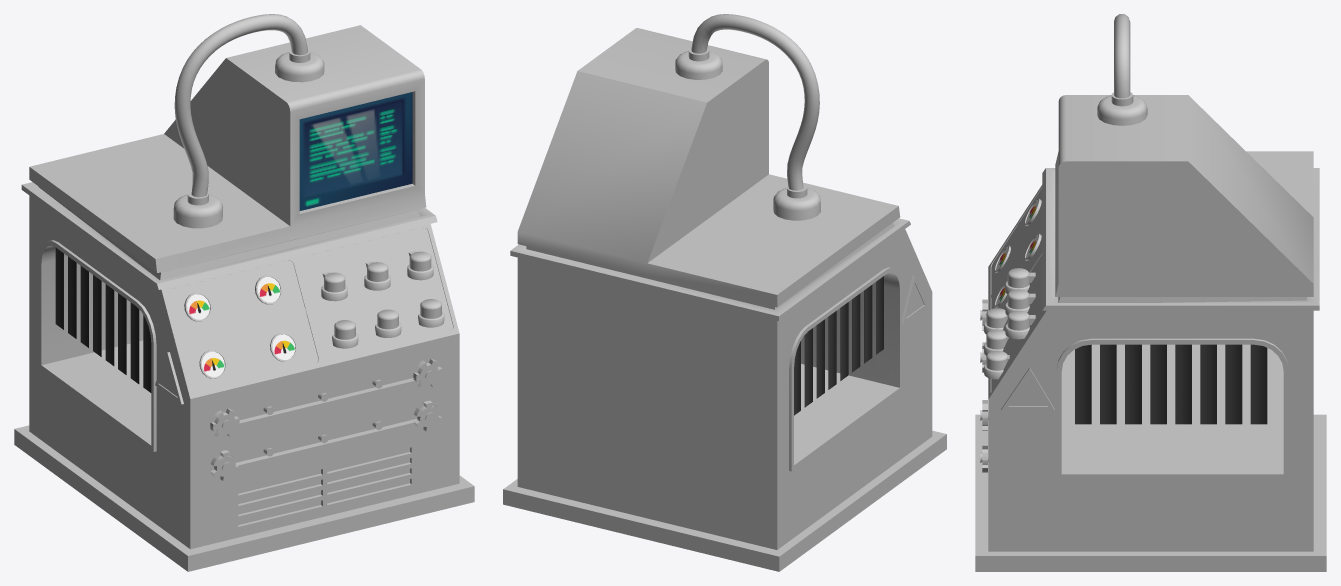
The model's file is Machine_v4_2.fbx.
3 renders of one model, left to right at view 1: azimuth 30°, elevation 25°; view 2: azimuth 150°, elevation 25°; view 3: azimuth 270°, elevation 25°, orthographic. The views are drawn at different scales.
Parts seen in each view (by area): view 1: Machn_v4_2, Plane_v4_2, Machn_v4_2_Button.002, Machn_v4_2_Button.001, Machn_v4_2_Button, Machn_v4_2_Button.004, Machn_v4_2_Button.003, Machn_v4_2_Button.005, Machn_v4_2_Gear_1, Machn_v4_2_Gear_2, Machn_v4_2_Gear_1.001, Machn_v4_2_Gear_2.001; view 2: Machn_v4_2, Plane_v4_2; view 3: Machn_v4_2, Plane_v4_2_2, Machn_v4_2_Button.002, Machn_v4_2_Button, Machn_v4_2_Button.001, Machn_v4_2_Button.005, Machn_v4_2_Button.004, Machn_v4_2_Button.003.
Boxes of the visible parts, left/top/right/bottom form: Machn_v4_2: left=14, top=14, right=474, bottom=571; Plane_v4_2: left=55, top=248, right=151, bottom=392; Machn_v4_2_Button.002: left=407, top=250, right=433, bottom=280; Machn_v4_2_Button.001: left=364, top=261, right=390, bottom=290; Machn_v4_2_Button: left=321, top=271, right=347, bottom=301; Machn_v4_2_Button.004: left=375, top=309, right=401, bottom=337; Machn_v4_2_Button.003: left=332, top=320, right=358, bottom=348; Machn_v4_2_Button.005: left=418, top=299, right=444, bottom=327; Machn_v4_2_Gear_1: left=210, top=408, right=239, bottom=438; Machn_v4_2_Gear_2: left=413, top=359, right=442, bottom=389; Machn_v4_2_Gear_1.001: left=210, top=450, right=238, bottom=480; Machn_v4_2_Gear_2.001: left=414, top=400, right=441, bottom=431; Machn_v4_2: left=503, top=14, right=946, bottom=571; Plane_v4_2: left=794, top=276, right=883, bottom=415; Machn_v4_2: left=975, top=14, right=1326, bottom=571; Plane_v4_2_2: left=1075, top=344, right=1267, bottom=424; Machn_v4_2_Button.002: left=1005, top=310, right=1035, bottom=339; Machn_v4_2_Button: left=1005, top=268, right=1035, bottom=294; Machn_v4_2_Button.001: left=1005, top=289, right=1035, bottom=315; Machn_v4_2_Button.005: left=984, top=350, right=1009, bottom=379; Machn_v4_2_Button.004: left=984, top=329, right=1008, bottom=355; Machn_v4_2_Button.003: left=984, top=308, right=1007, bottom=334.
Size of the model in its own units: 263 by 410 by 276.
